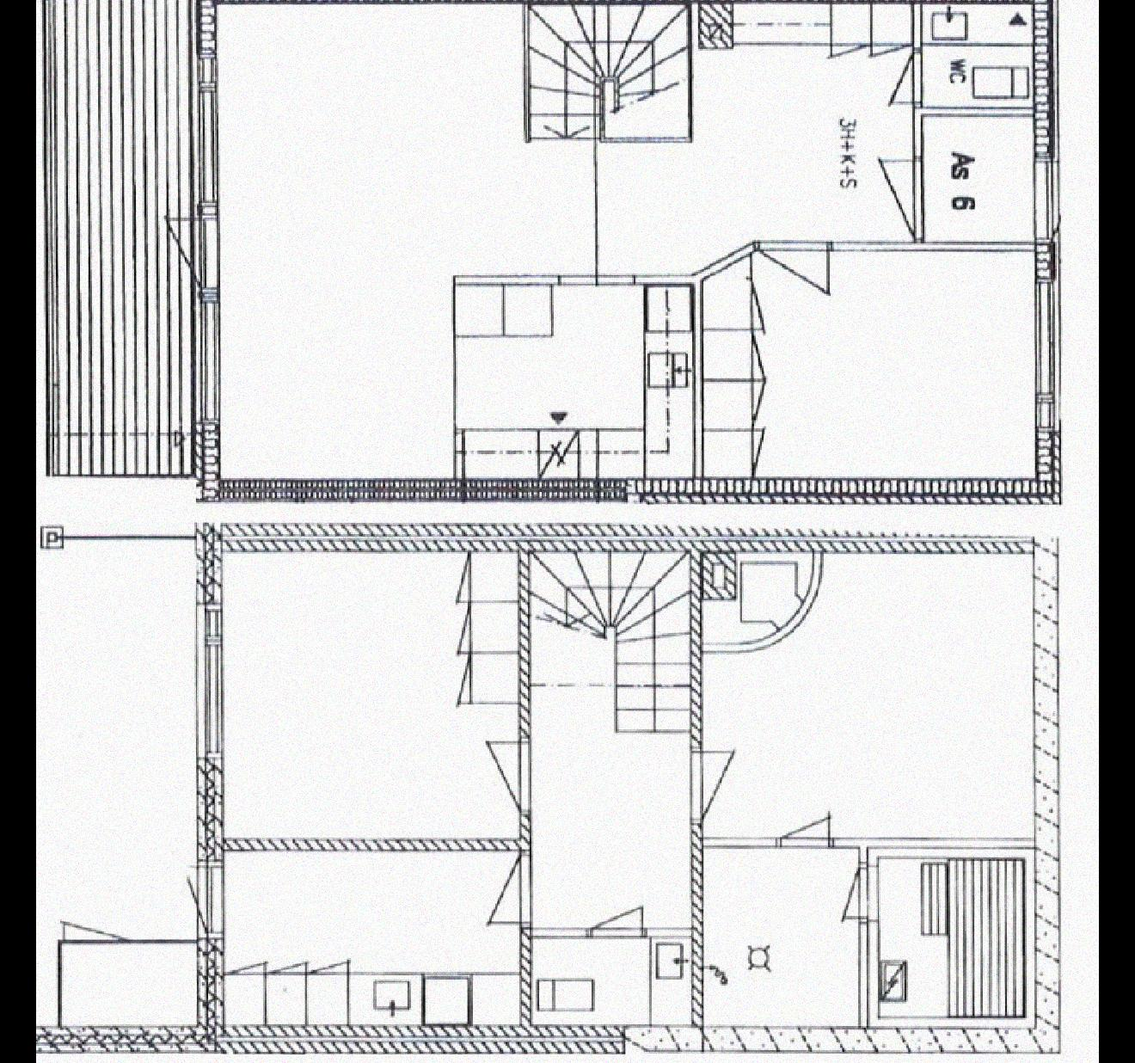door: (221, 1, 911, 478), (699, 547, 1032, 837), (224, 556, 518, 842), (697, 237, 1032, 476), (38, 541, 193, 1031), (45, 0, 192, 471), (532, 553, 685, 933), (220, 849, 513, 1021), (702, 847, 860, 1025), (880, 861, 1019, 1021), (533, 936, 685, 1021), (924, 116, 1029, 237), (916, 3, 1028, 104)
window: (751, 231, 838, 292), (484, 732, 537, 815), (161, 213, 217, 286), (484, 846, 532, 928), (688, 747, 737, 823), (876, 156, 924, 230), (837, 851, 880, 919), (63, 902, 131, 945), (588, 898, 653, 940), (777, 813, 832, 853), (888, 54, 918, 107)
zone: (196, 606, 224, 759), (1034, 278, 1056, 433), (193, 296, 219, 416), (202, 51, 221, 202), (199, 857, 224, 936), (1032, 161, 1052, 243)
